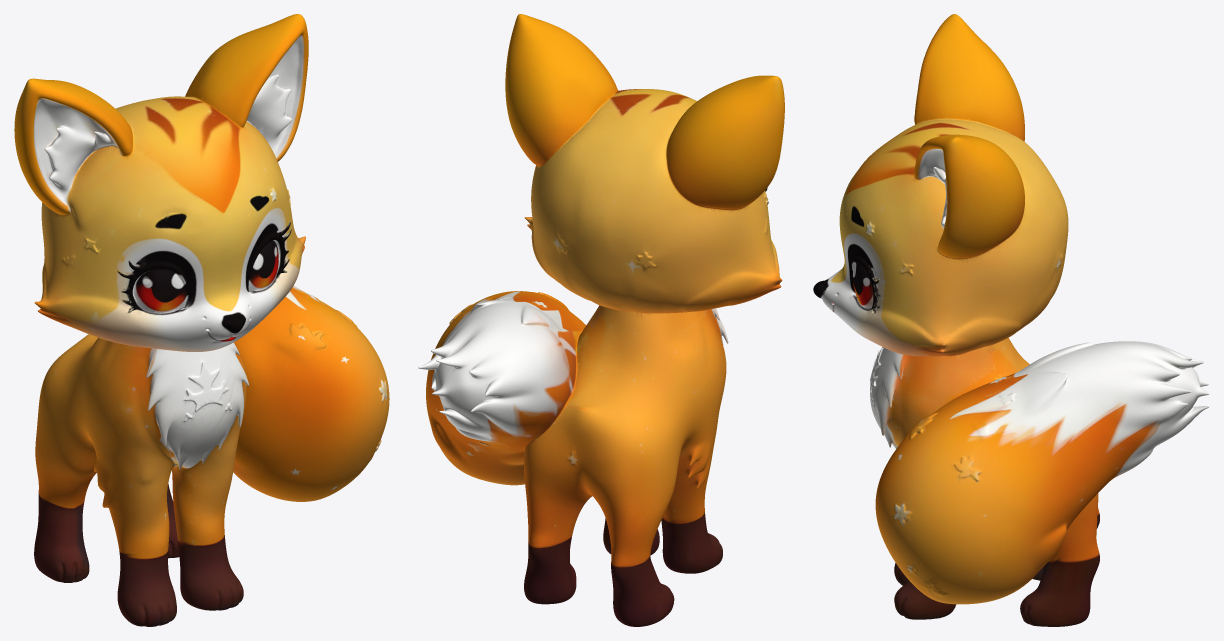
The model's file is star_fox.glb.
The picture shows the model from 3 angles, left to right: view 1: azimuth 30°, elevation 25°; view 2: azimuth 150°, elevation 25°; view 3: azimuth 270°, elevation 25°; orthographic projection. The views are drawn at different scales.
Bounding box in the file's own units: 1.3 × 1.9 × 1.31.
1 material, 1 textured.
